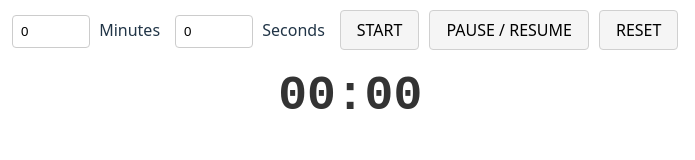
Test case: RunningClock › should reset inputs and display to 00:00
Replace the text in the number field labelled "Minutes" with "5" at (51, 32), box [12, 15, 90, 48]
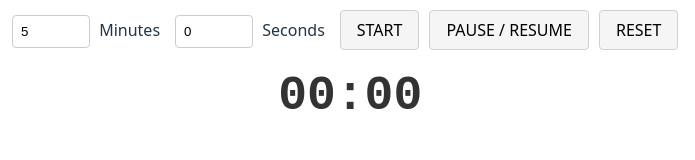
Replace the text in the number field labelled "Seconds" with "30" at (214, 32), box [175, 15, 253, 48]
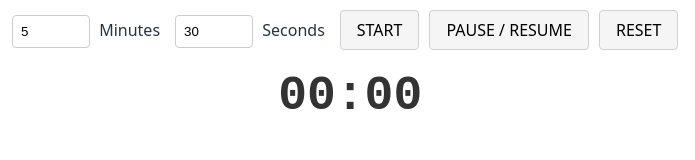
Click the button "START" at (380, 30), box [340, 10, 419, 50]
Wait 1000 ms
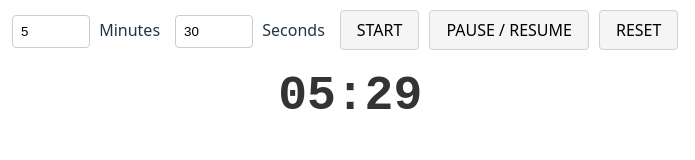
Click the button "RESET" at (639, 30), box [599, 10, 678, 50]
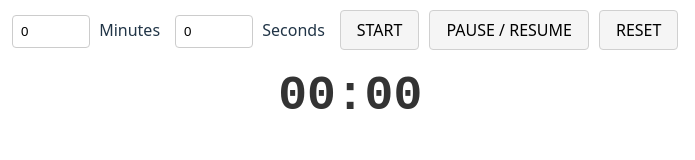
expect the heading with test id "running-clock" reads "00:00": met, box [278, 69, 422, 123]
expect the number field labelled "Minutes" holds "0": met, box [12, 15, 90, 48]
expect the number field labelled "Seconds" holds "0": met, box [175, 15, 253, 48]
